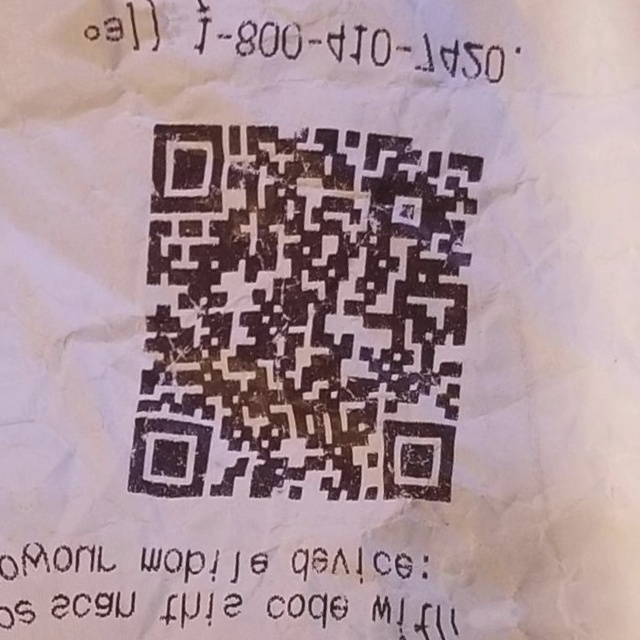qr-code: (60, 63, 551, 567)
